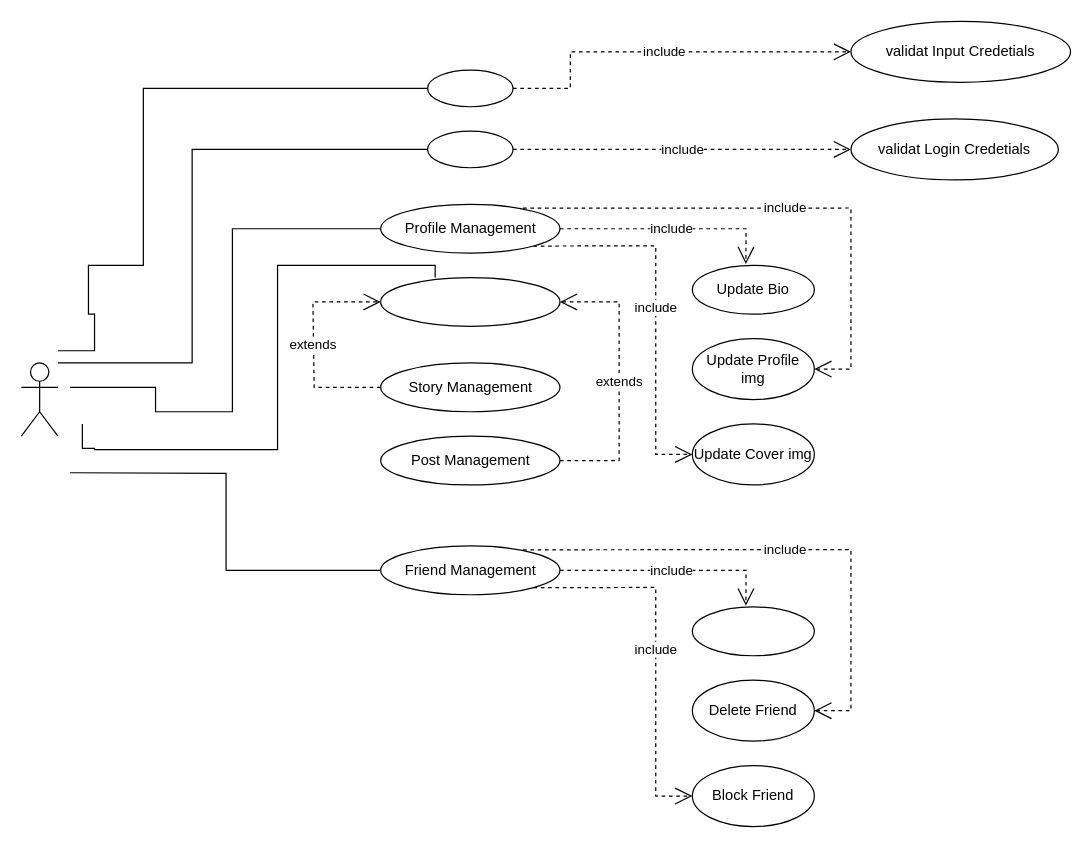
The diagram is 1092 pixels wide and 848 high, and some of its shapes have lost their labels. Each missing label, with the centre of its shape:
"Add Friend" belongs at (752,631).
"Content Management" belongs at (469,301).
"Login" belongs at (469,149).
"Signup" belongs at (469,88).
"User" belongs at (39,399).
